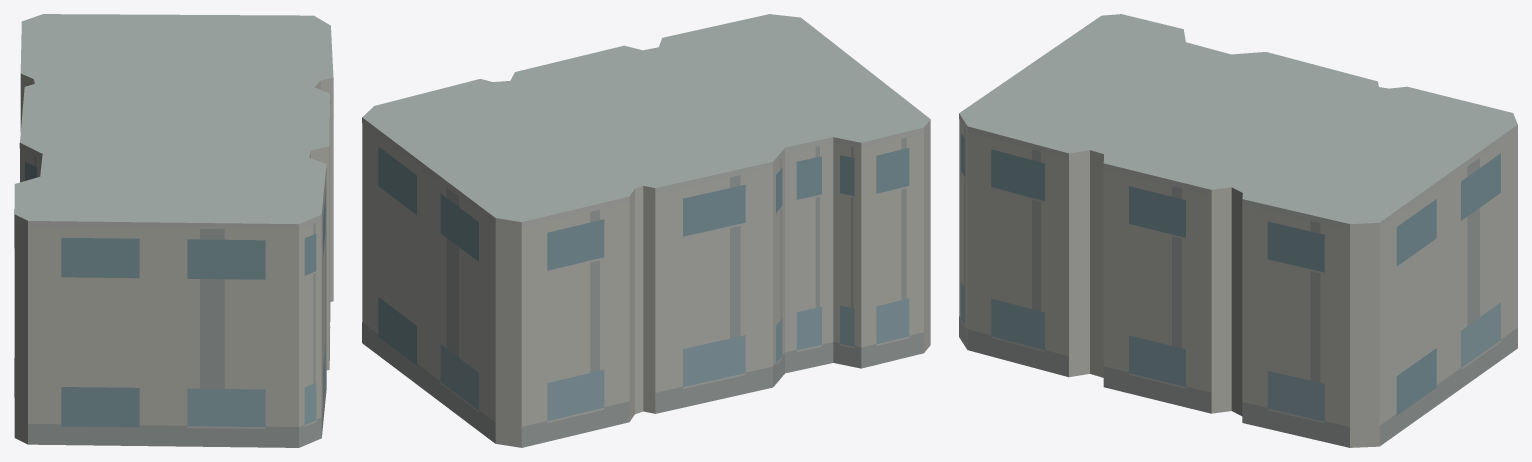
File: survey-upis-32771050.glb
The picture shows the model from 3 angles, left to right: view 1: azimuth 30°, elevation 25°; view 2: azimuth 150°, elevation 25°; view 3: azimuth 270°, elevation 25°; orthographic projection.
Visible parts, largest first — view 1: survey-upis-32771050.tmp; view 2: survey-upis-32771050.tmp; view 3: survey-upis-32771050.tmp.
Part boxes in pixels (box(x1,y1,x2,y2)): survey-upis-32771050.tmp: box(14, 14, 333, 447); survey-upis-32771050.tmp: box(362, 14, 930, 447); survey-upis-32771050.tmp: box(959, 14, 1517, 447).
Bounding box in the file's own units: 18.43 × 9.15 × 20.71.
